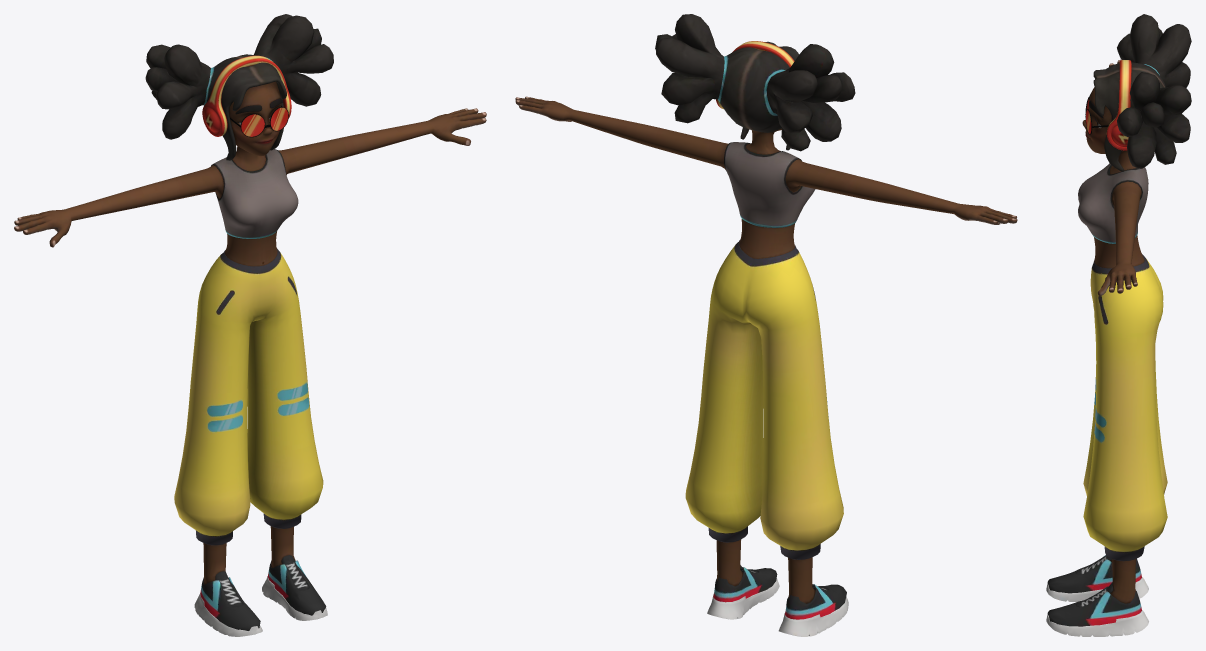
File: Michelle-transformed.glb
The picture shows the model from 3 angles, left to right: view 1: azimuth 30°, elevation 25°; view 2: azimuth 150°, elevation 25°; view 3: azimuth 270°, elevation 25°; orthographic projection. The views are drawn at different scales.
Parts seen in each view (by area): view 1: Ch03; view 2: Ch03; view 3: Ch03.
Part boxes in pixels (x1=…): Ch03: x1=14, y1=14, x2=486, y2=636; Ch03: x1=515, y1=14, x2=1017, y2=636; Ch03: x1=1046, y1=14, x2=1191, y2=636.
Size of the model in its own units: 0.0146 by 0.0166 by 0.00387.
1 material, 1 textured.
